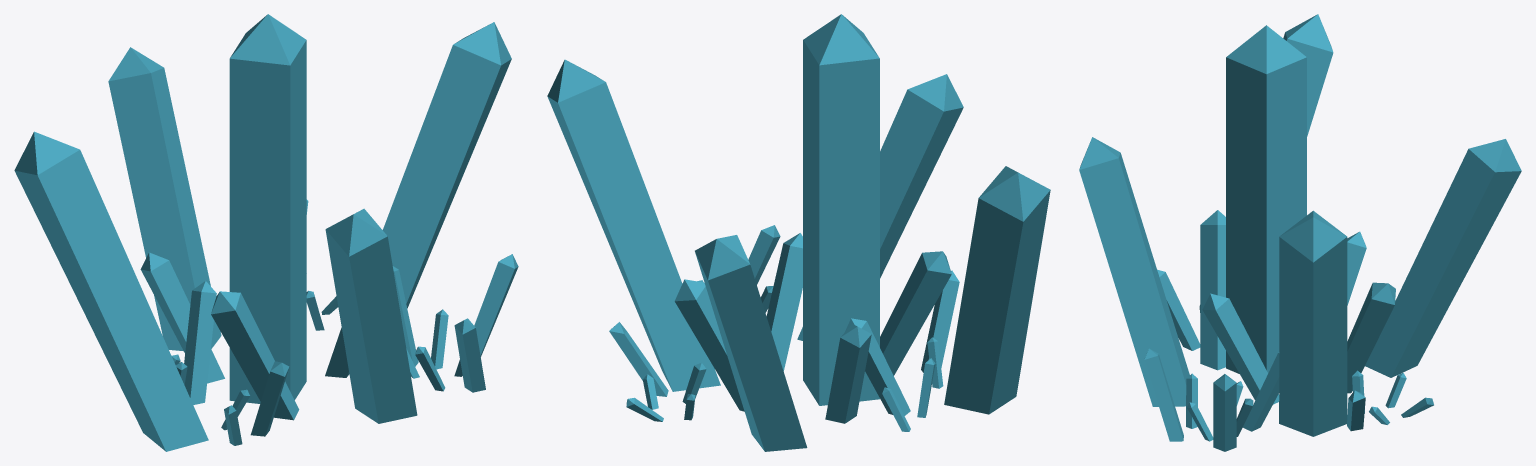
Rendered from icecrystals.glb.
3 views of the same model, side by side, from view 1: azimuth 30°, elevation 25°; view 2: azimuth 150°, elevation 25°; view 3: azimuth 270°, elevation 25° (orthographic). The views are drawn at different scales.
Parts seen in each view (by area): view 1: Cube.001; view 2: Cube.001; view 3: Cube.001.
Boxes of the visible parts, left/top/right/bottom form: Cube.001: left=14, top=14, right=518, bottom=451; Cube.001: left=547, top=14, right=1050, bottom=451; Cube.001: left=1079, top=14, right=1521, bottom=451.
Bounding box in the file's own units: 1.8 × 1.33 × 1.55.
